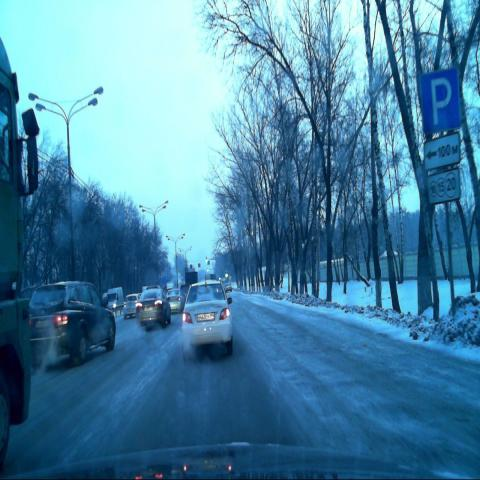8_1_4: (423, 134, 460, 169)
8_8: (426, 170, 460, 200)
